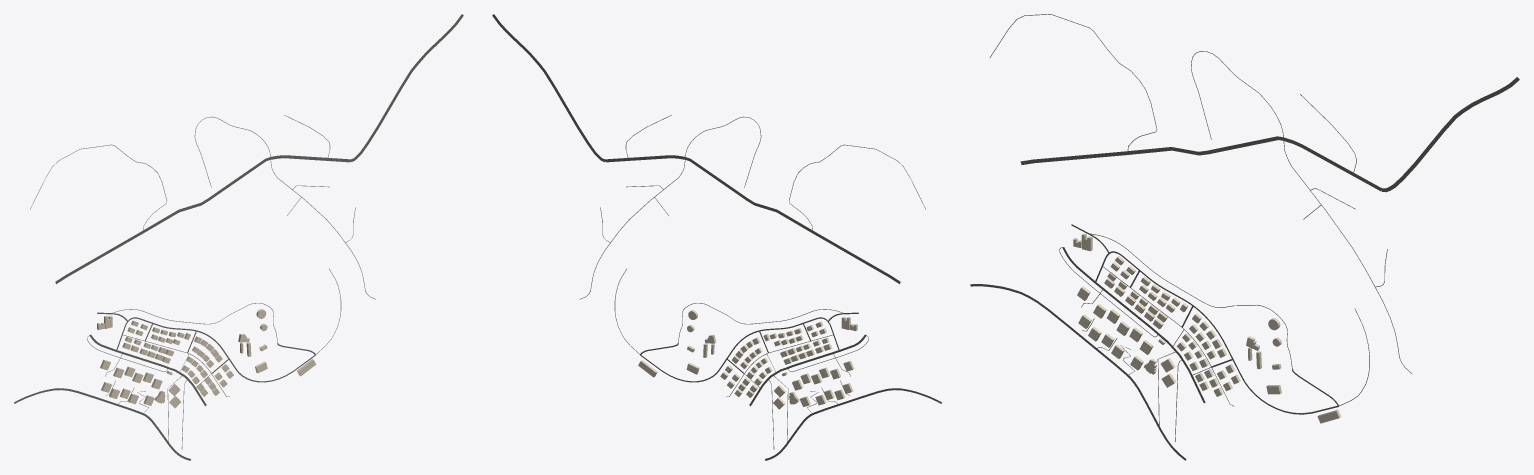
The model's file is historic-palestine-09_27_3514_3216.glb.
3 renders of one model, left to right at view 1: azimuth 30°, elevation 25°; view 2: azimuth 150°, elevation 25°; view 3: azimuth 330°, elevation 25°, orthographic. The views are drawn at different scales.
Parts seen in each view (by area): view 1: Road .014, Road .020, Road הבעל שם טוב; view 2: Road .014, Road .020, Road הבעל שם טוב; view 3: Road .014, Road .020, Road הבעל שם טוב, Road חזון עובדיה.
Part boxes in pixels (left/top/right/bottom): Road .014: left=55, top=155, right=350, bottom=283; Road .020: left=350, top=14, right=463, bottom=161; Road הבעל שם טוב: left=14, top=388, right=190, bottom=460; Road .014: left=605, top=155, right=900, bottom=283; Road .020: left=492, top=14, right=604, bottom=161; Road הבעל שם טוב: left=765, top=388, right=941, bottom=460; Road .014: left=1020, top=136, right=1381, bottom=191; Road .020: left=1381, top=77, right=1519, bottom=192; Road הבעל שם טוב: left=970, top=284, right=1186, bottom=460; Road חזון עובדיה: left=1109, top=251, right=1338, bottom=414.
Bounding box in the file's own units: 1264 × 1022 × 8.7.
